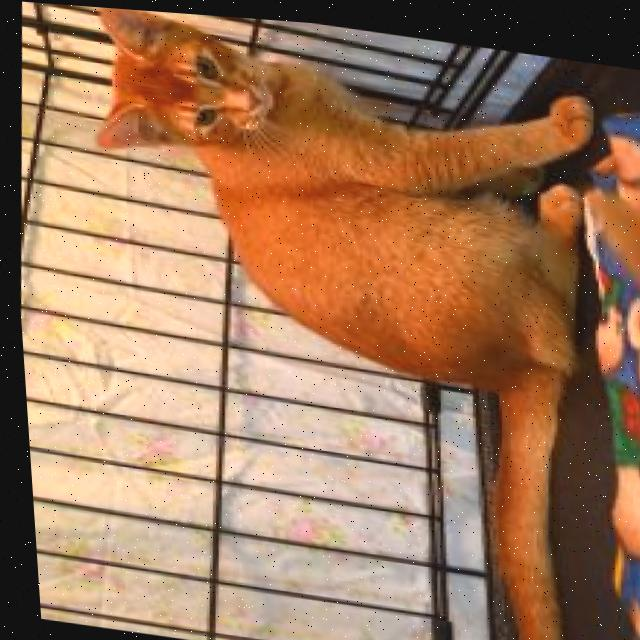Abyssinian: (48, 3, 625, 640)
